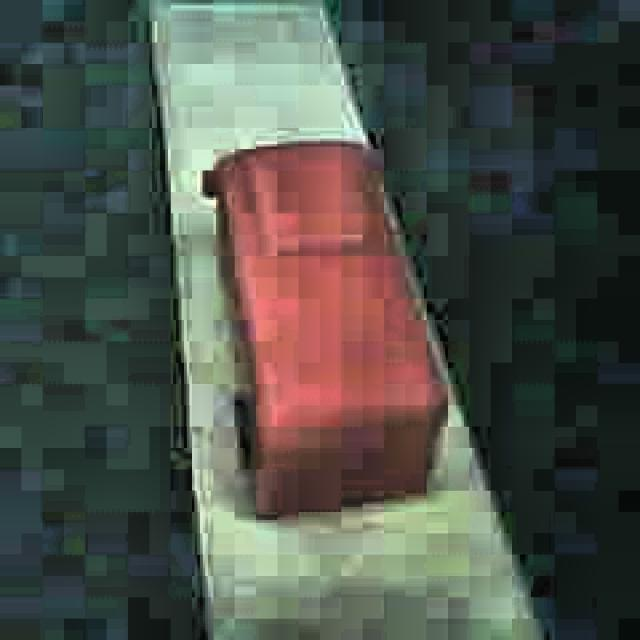bus: (200, 136, 452, 524)
